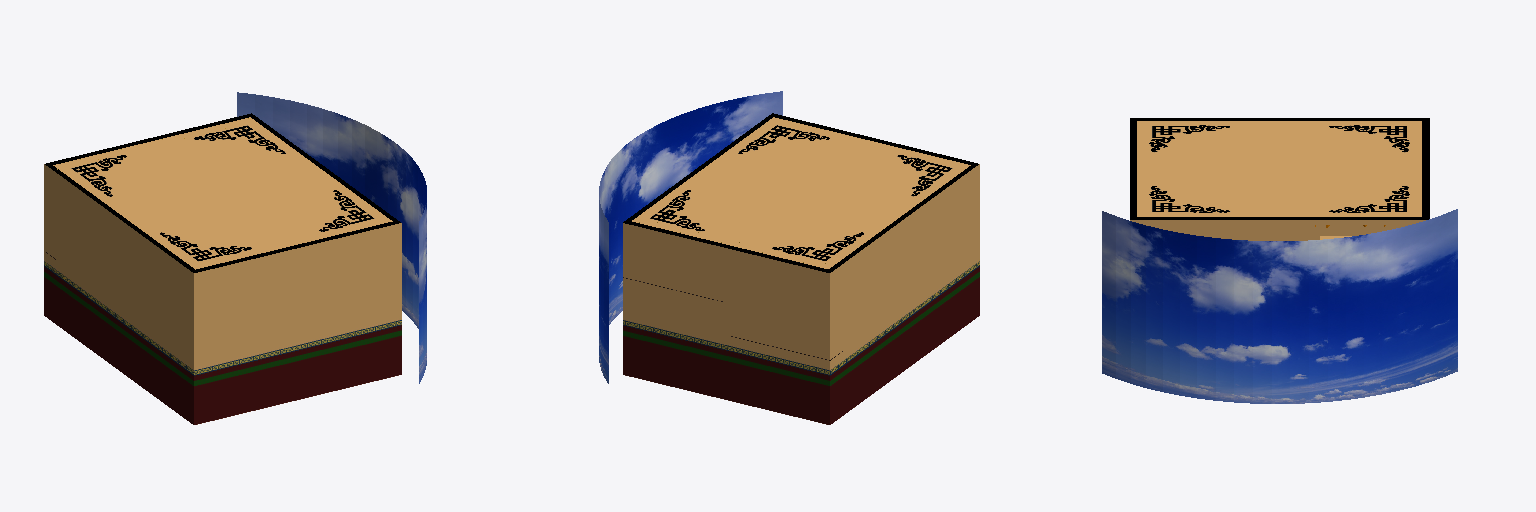
The picture shows the model from 3 angles: view 1: azimuth 30°, elevation 25°; view 2: azimuth 150°, elevation 25°; view 3: azimuth 270°, elevation 25°; orthographic projection.
Parts seen in each view (by area): view 1: house, ceiling, Arc001; view 2: house, ceiling, Arc001; view 3: Arc001, ceiling, house.
Boxes of the visible parts, x1,y1,x2,y2 form: house: [44, 164, 401, 424]; ceiling: [45, 113, 400, 272]; Arc001: [237, 92, 426, 383]; house: [623, 164, 979, 424]; ceiling: [623, 113, 978, 272]; Arc001: [599, 91, 782, 383]; Arc001: [1102, 209, 1457, 403]; ceiling: [1130, 118, 1429, 219]; house: [1130, 220, 1425, 240].
Bounding box in the file's own units: 528 × 301 × 594.
Materials: 23 (14 with a texture image).